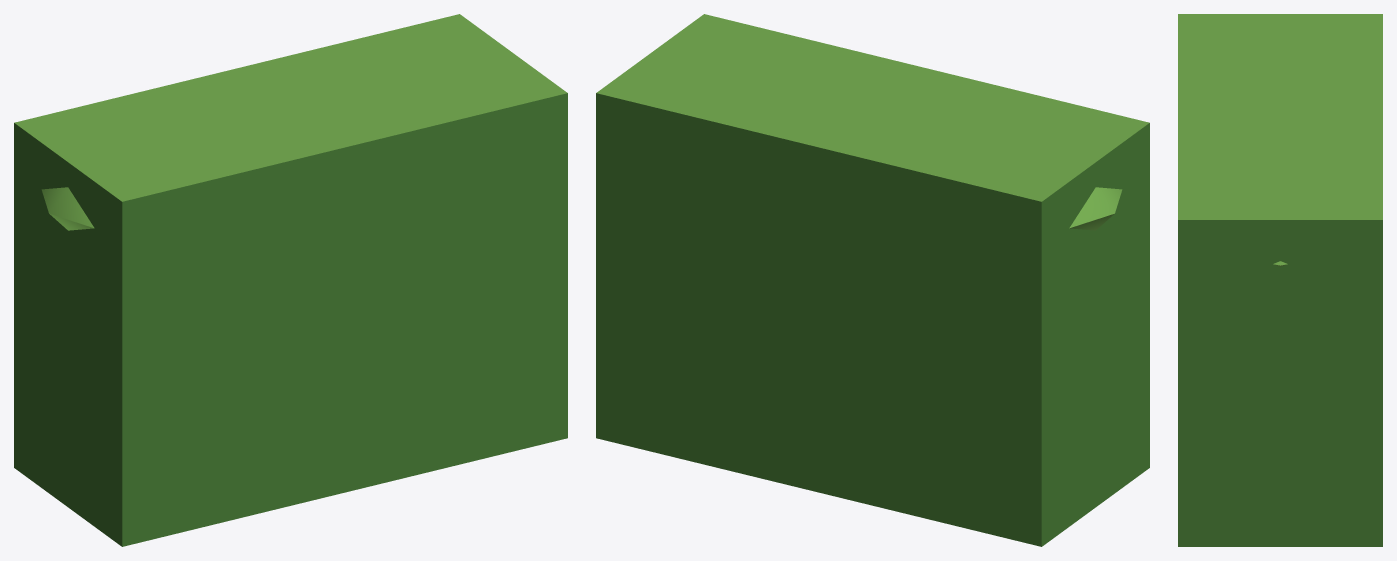
File: fence-hedge-run.lod1.glb
3 views of the same model, side by side, from view 1: azimuth 30°, elevation 25°; view 2: azimuth 150°, elevation 25°; view 3: azimuth 270°, elevation 25° (orthographic). The views are drawn at different scales.
Visible parts, largest first — view 1: fence-hedge-run_lod1; view 2: fence-hedge-run_lod1; view 3: fence-hedge-run_lod1.
Boxes of the visible parts, x1=… form: fence-hedge-run_lod1: x1=14, y1=14, x2=567, y2=546; fence-hedge-run_lod1: x1=596, y1=14, x2=1149, y2=546; fence-hedge-run_lod1: x1=1178, y1=14, x2=1382, y2=546.
Size of the model in its own units: 1.05 by 0.74 by 0.42.
